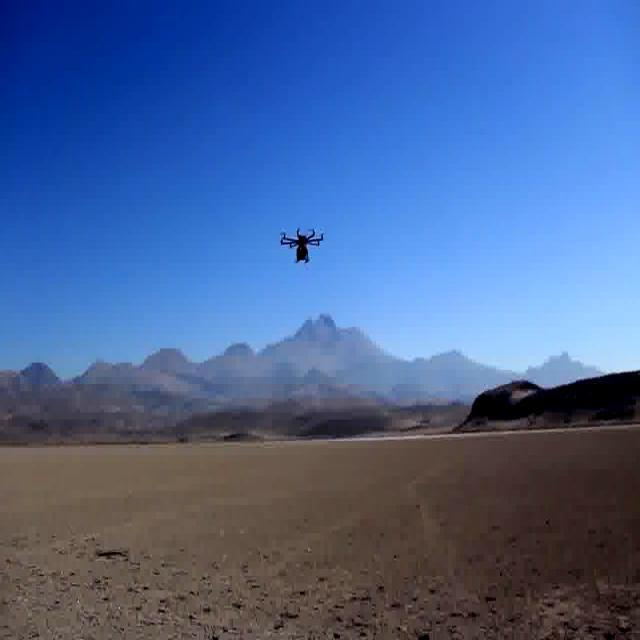drone: (279, 224, 327, 268)
